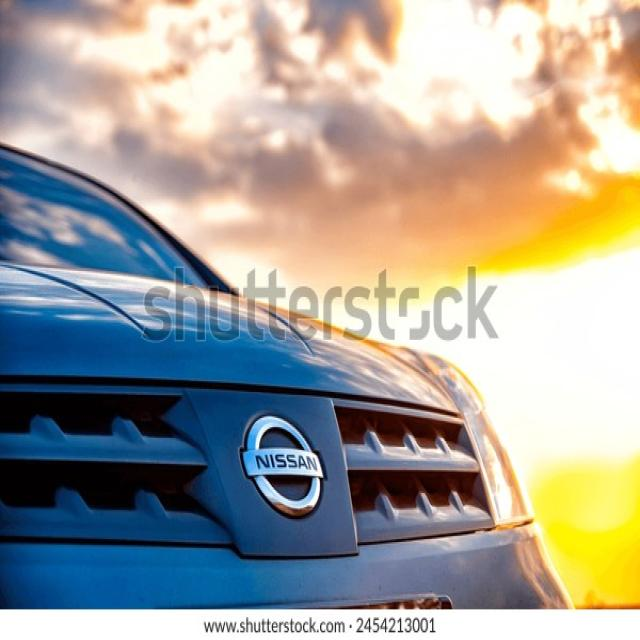nissan: (238, 412, 329, 519)
